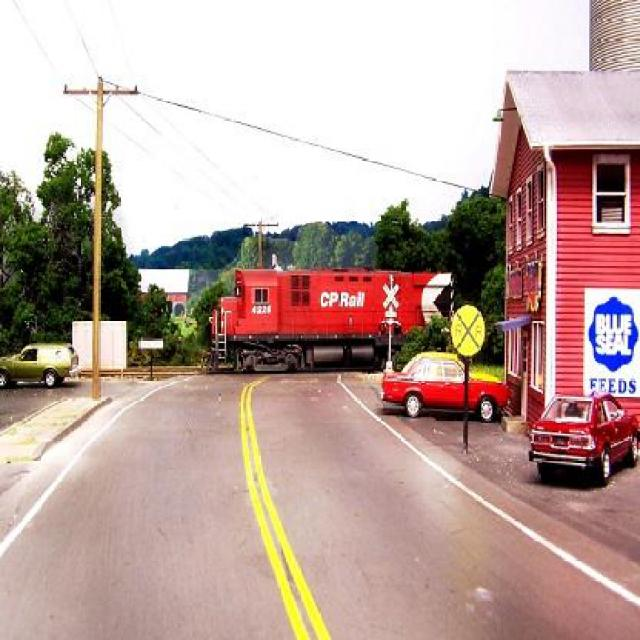pole: (58, 65, 140, 392)
